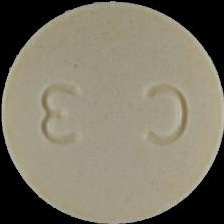16729-212: (0, 0, 224, 224)
